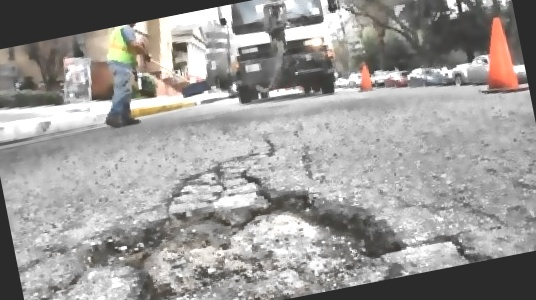pothole: (76, 163, 414, 300)
